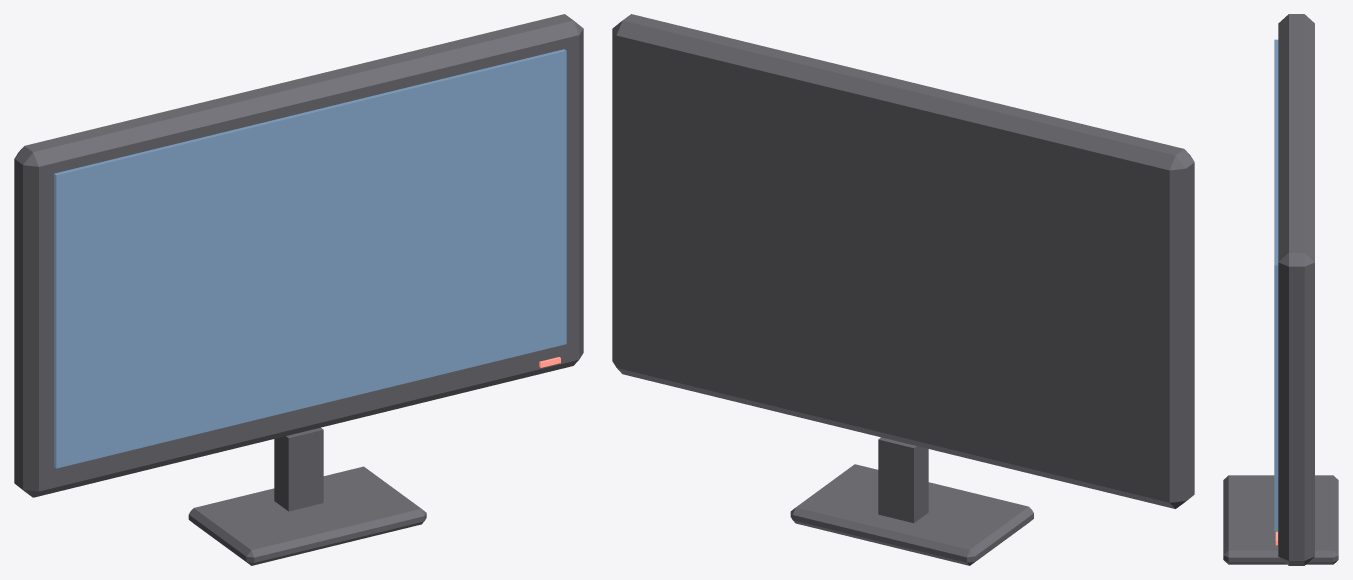
Rendered from prop_tv_01.glb.
3 views of the same model, side by side, from view 1: azimuth 30°, elevation 25°; view 2: azimuth 150°, elevation 25°; view 3: azimuth 270°, elevation 25° (orthographic). The views are drawn at different scales.
Parts seen in each view (by area): view 1: prop_tv_01_body; view 2: prop_tv_01_body; view 3: prop_tv_01_body.
Boxes of the visible parts, x1,y1,x2,y2 form: prop_tv_01_body: (14,14,583,565); prop_tv_01_body: (612,14,1194,565); prop_tv_01_body: (1223,14,1338,565).
Bounding box in the file's own units: 1.12 × 0.83 × 0.22.
